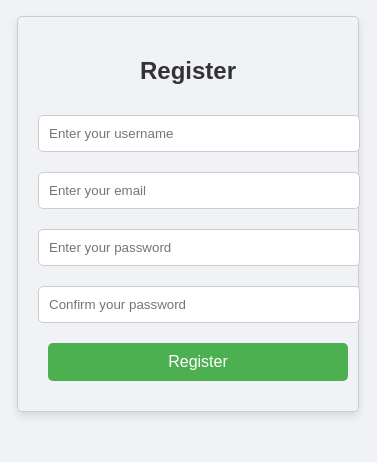
Scenario: handles network or unexpected error gracefully
In the field with placeholder "Enter your username": (199, 133) [38,115,360,152], type "testuser"
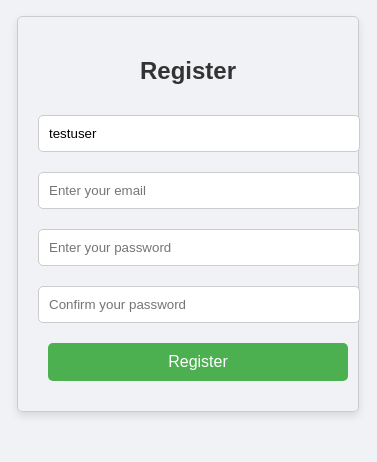
In the field with placeholder "Enter your email": (199, 190) [38,172,360,209], type "test@example.com"
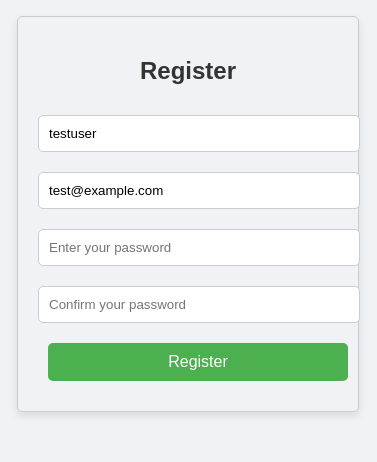
In the password field with placeholder "Enter your password": (199, 247) [38,229,360,266], type "password123"
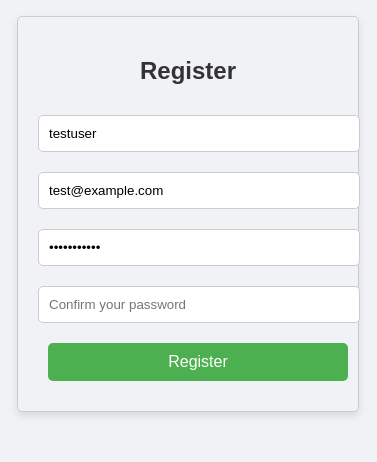
In the password field with placeholder "Confirm your password": (199, 304) [38,286,360,323], type "password123"
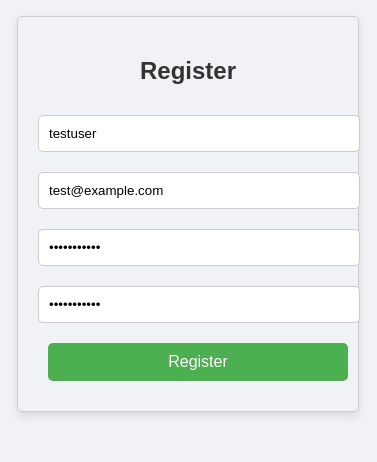
Click the button "Register": (198, 362) [48,343,348,381]
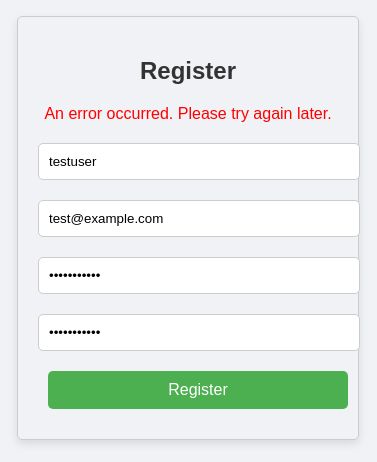
Now the text "An error occurred. Please try again later." is shown, box [38,105,338,123]
